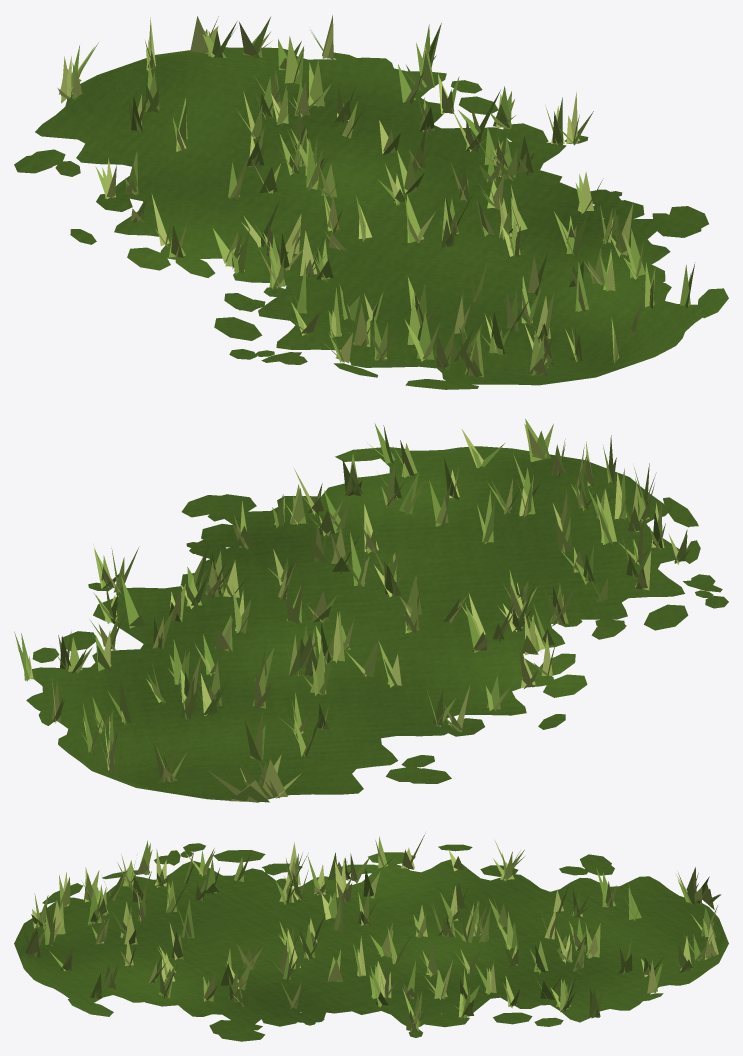
Rendered from grass_patch.glb.
The picture shows the model from 3 angles, top to bottom: view 1: azimuth 30°, elevation 25°; view 2: azimuth 150°, elevation 25°; view 3: azimuth 270°, elevation 25°; orthographic projection. The views are drawn at different scales.
Parts seen in each view (by area): view 1: WallGrassPatch; view 2: WallGrassPatch; view 3: WallGrassPatch.
Boxes of the visible parts, left/top/right/bottom form: WallGrassPatch: left=14, top=15, right=728, bottom=389; WallGrassPatch: left=14, top=419, right=728, bottom=802; WallGrassPatch: left=14, top=833, right=728, bottom=1041.
Bounding box in the file's own units: 1.97 × 0.173 × 3.
4 materials, 1 textured.
